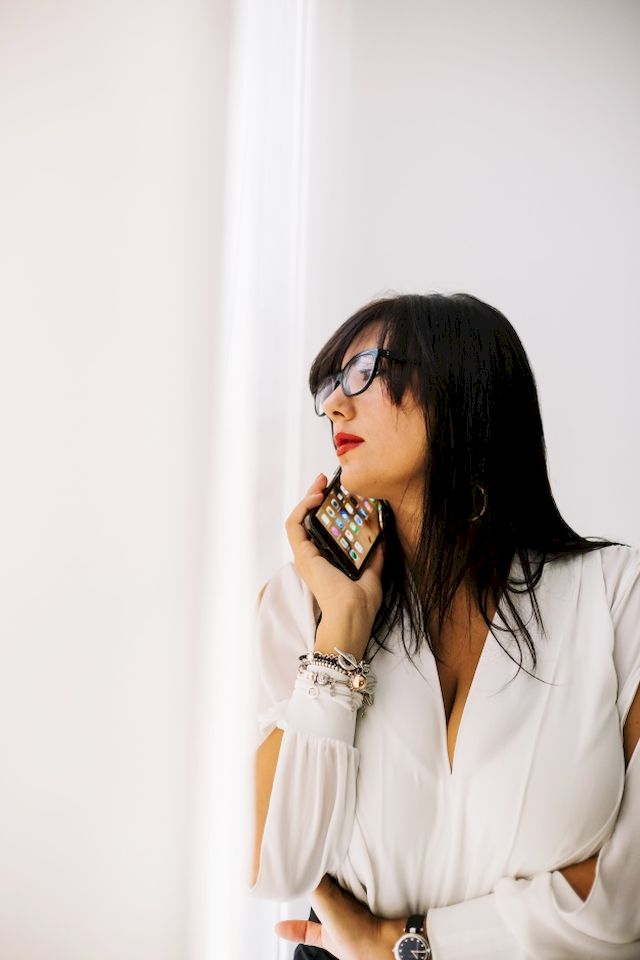phone: (291, 467, 406, 595)
talk: (288, 341, 430, 619)
